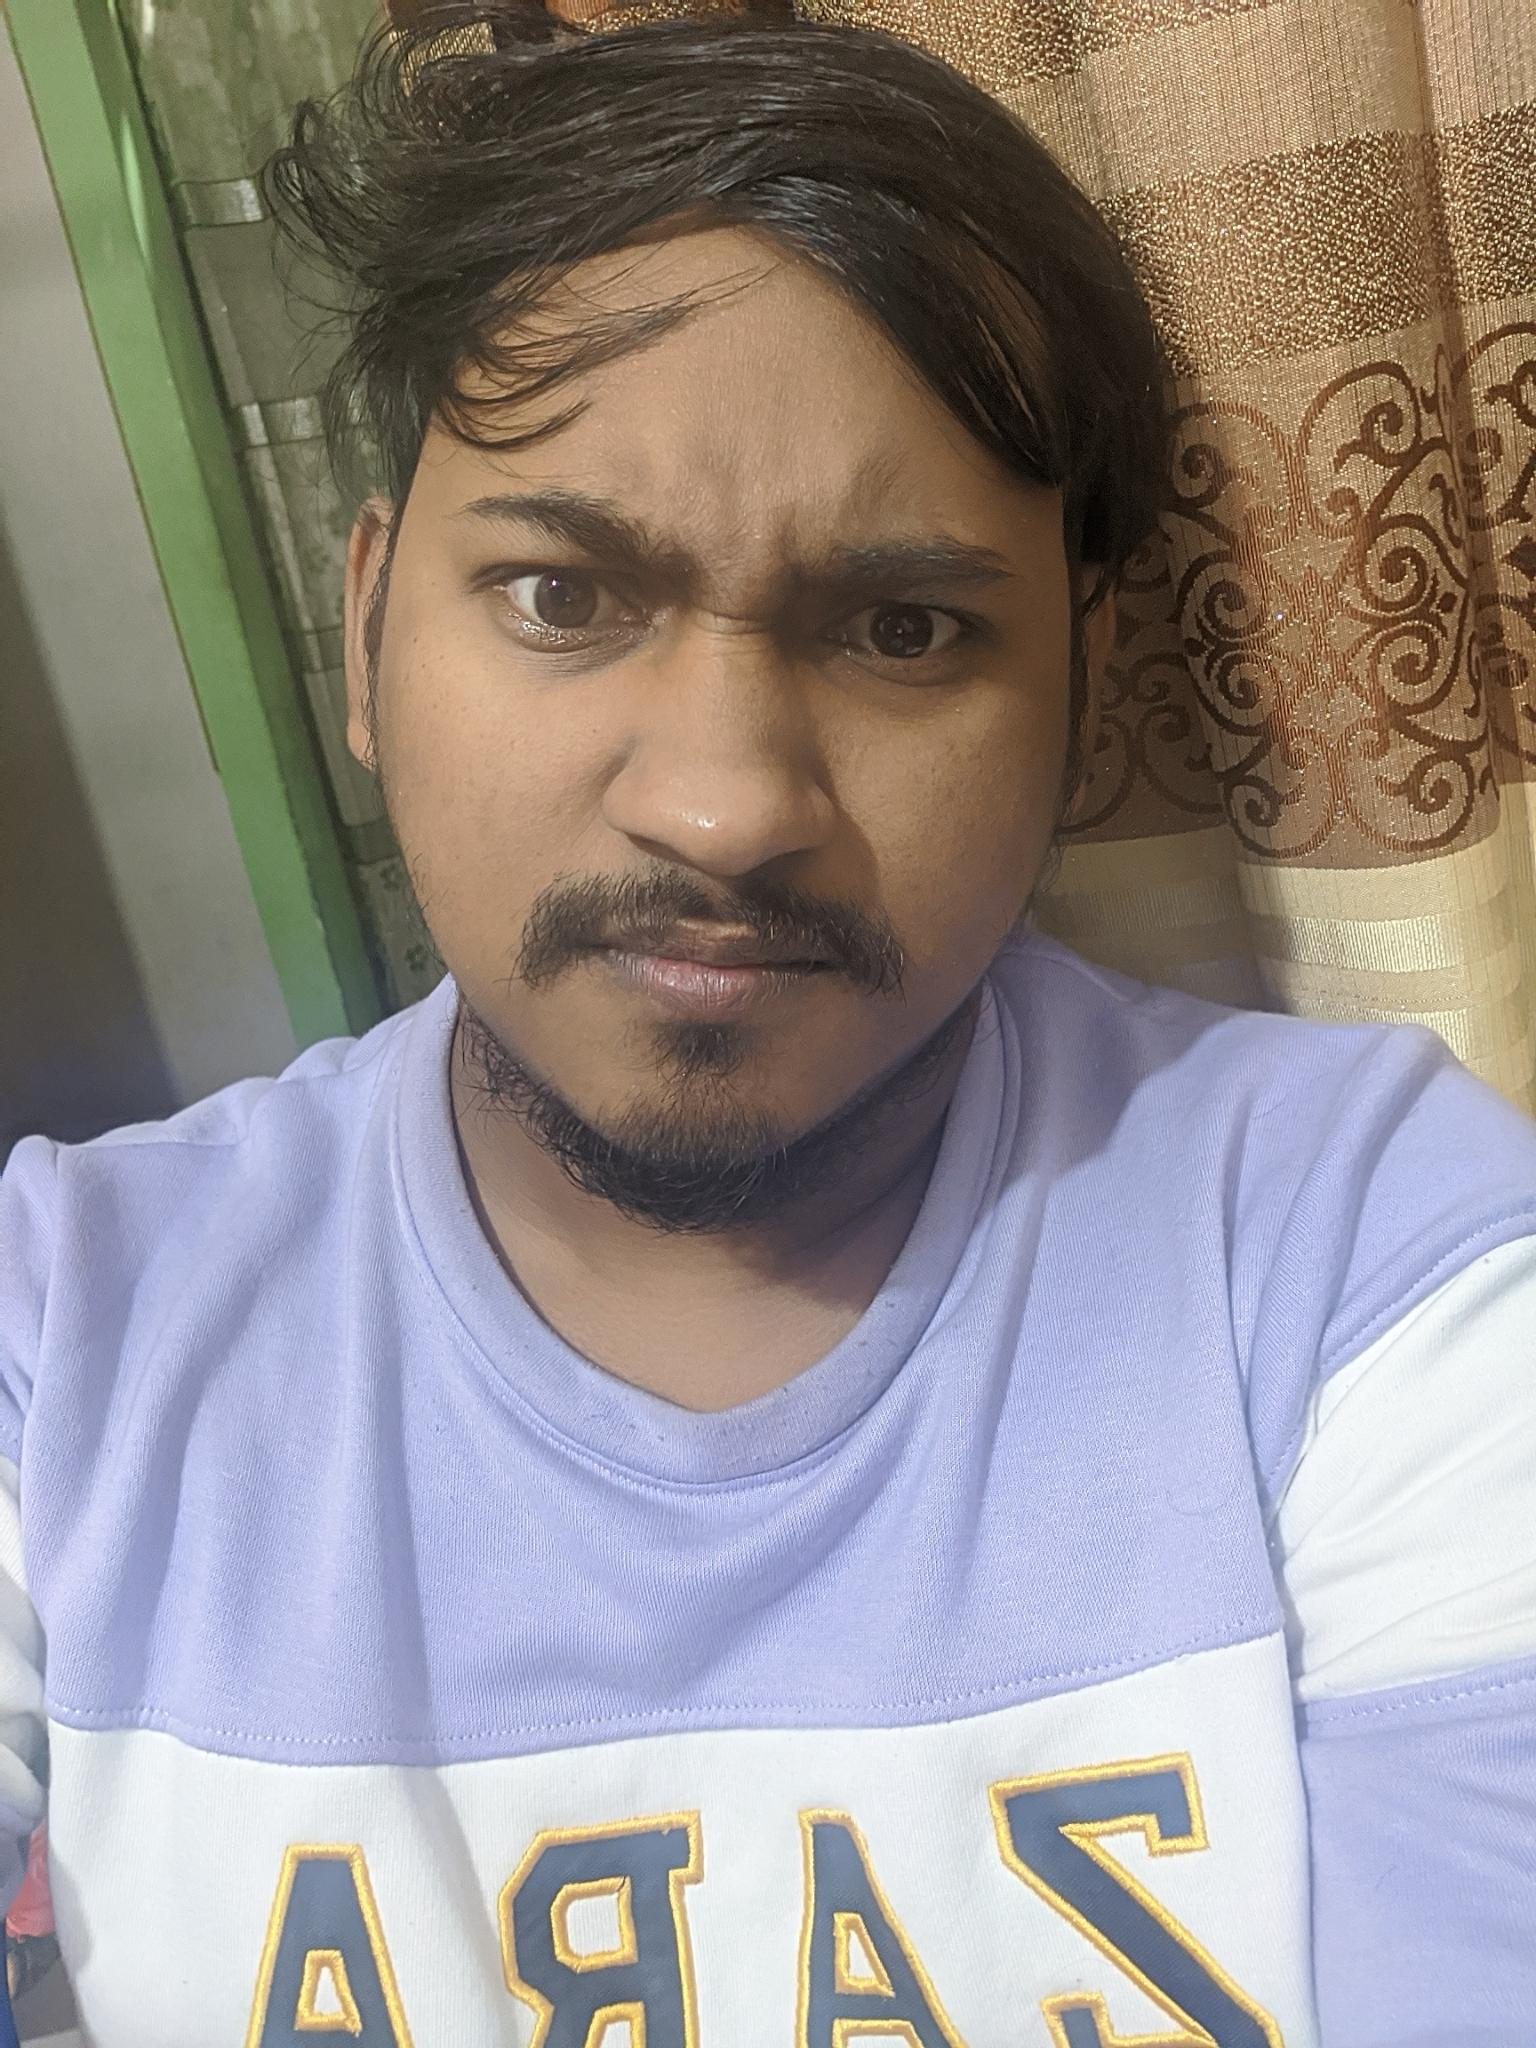Angry: (369, 402, 1079, 1164)
